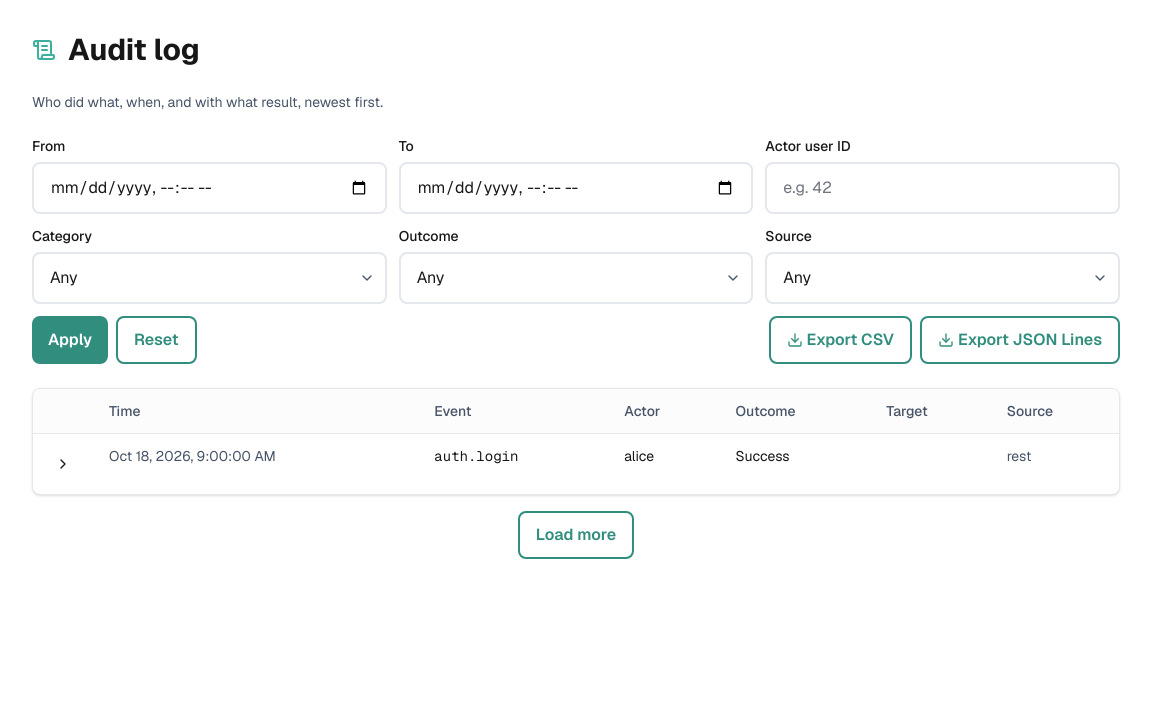
AuditLogPage › keeps the loaded rows when loading more fails
Click the button "Load more" at {"x": 576, "y": 535}, box [518,511,634,559]
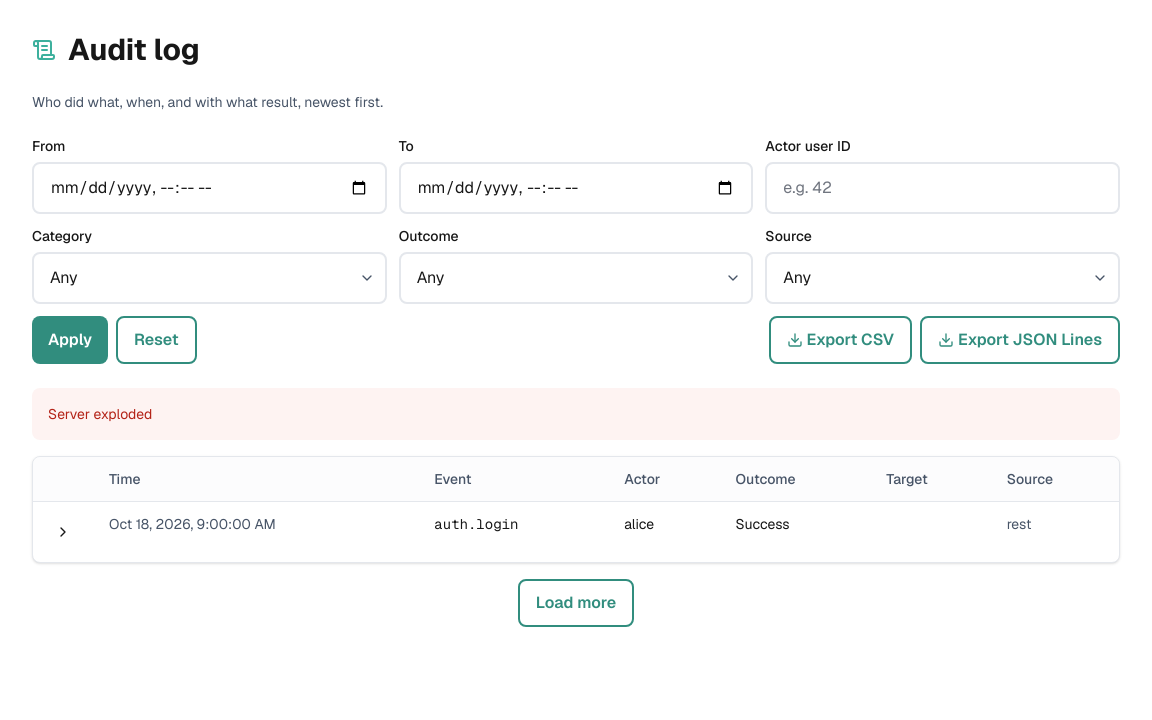
Expected: the text "auth.login" is shown, [418,502,608,562]
Result: the text "Server exploded" is shown at [48,405,152,423]
